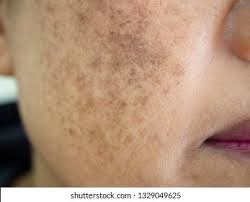Melasma: (58, 3, 176, 166)
